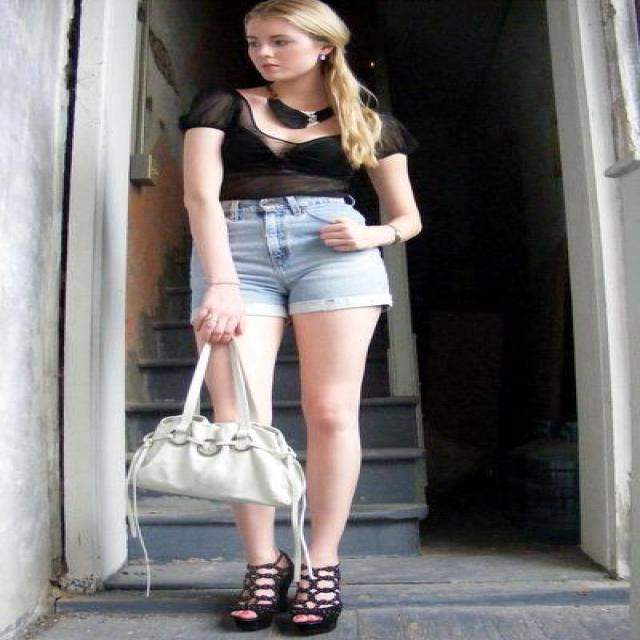bag: (125, 346, 304, 524)
shirt: (178, 88, 404, 202)
shoe: (211, 550, 341, 636)
shorts: (221, 196, 390, 317)
